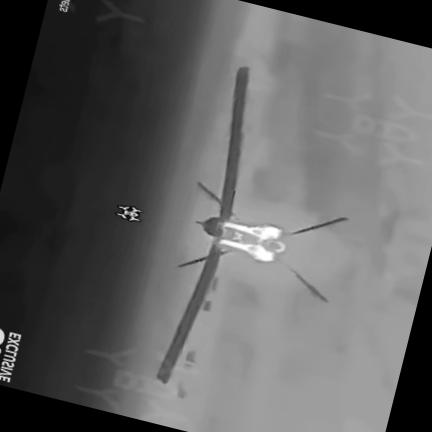Shahed: (157, 67, 347, 383)
